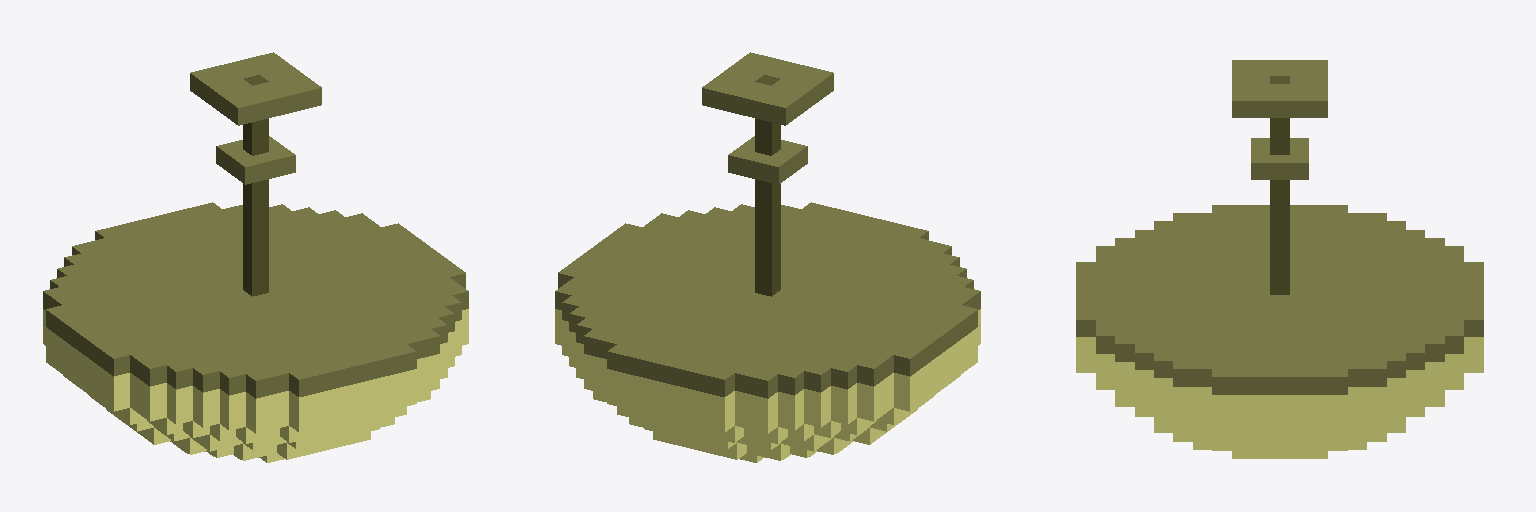
3 views of the same model, side by side, from view 1: azimuth 30°, elevation 25°; view 2: azimuth 150°, elevation 25°; view 3: azimuth 270°, elevation 25° (orthographic).
Parts seen in each view (by area): view 1: object 1; view 2: object 1; view 3: object 1.
Boxes of the visible parts, <box> form: object 1: <box>43,52,468,462</box>; object 1: <box>555,52,980,462</box>; object 1: <box>1076,60,1483,458</box>.
Size of the model in its own units: 2.1 by 2 by 2.1.
1 materials, 1 textured.